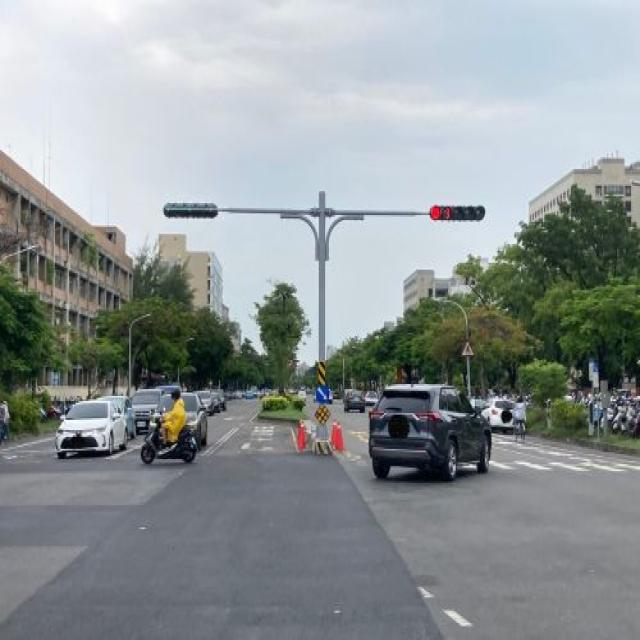red light: (430, 204, 488, 225)
